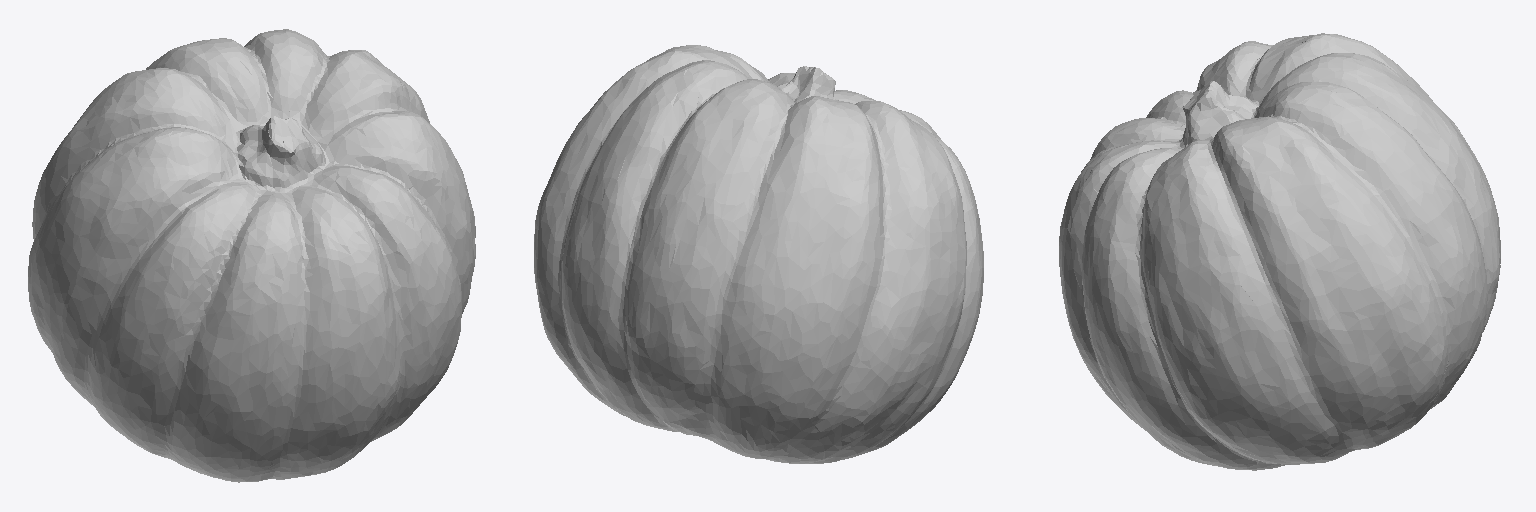
File: pumpkin.obj
3 views of the same model, side by side, from view 1: azimuth 30°, elevation 25°; view 2: azimuth 150°, elevation 25°; view 3: azimuth 270°, elevation 25° (orthographic).
Bounding box in the file's own units: 6.44 × 6.15 × 6.4.